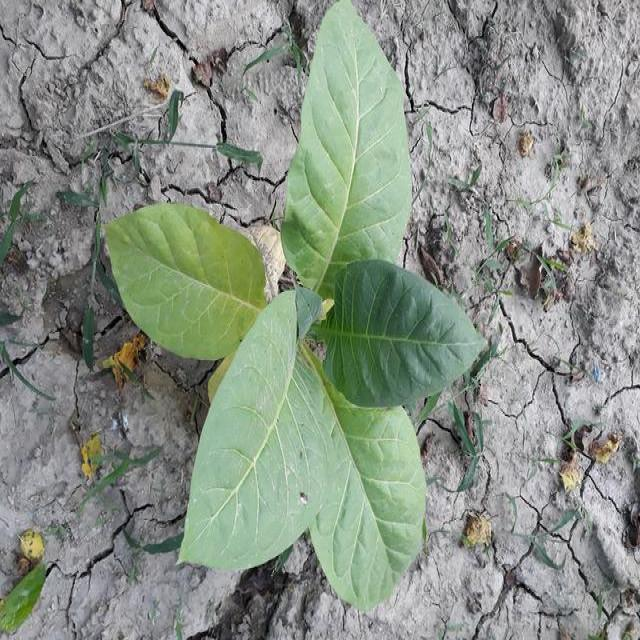crop: (96, 0, 494, 624)
